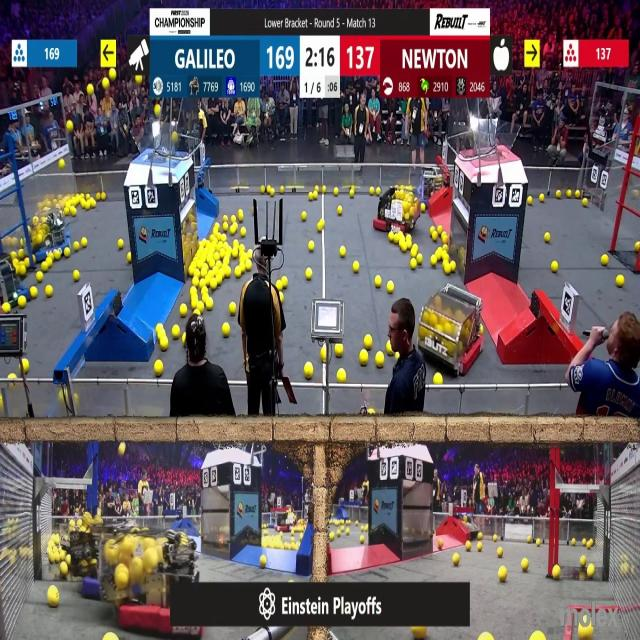ball_airborne: (172, 132, 179, 144), (67, 120, 74, 131), (108, 69, 115, 80), (118, 444, 124, 456), (88, 86, 95, 96), (136, 75, 143, 84), (154, 105, 160, 115), (103, 78, 109, 88), (60, 160, 66, 170)
ball_ground: (47, 587, 58, 608), (306, 362, 314, 378), (154, 360, 162, 375), (360, 350, 368, 365), (339, 368, 347, 382), (377, 352, 385, 366), (336, 344, 344, 358), (498, 567, 506, 581), (553, 566, 561, 580), (221, 323, 229, 336), (172, 325, 180, 338), (320, 348, 327, 362), (588, 564, 595, 578), (452, 554, 460, 566), (398, 240, 406, 252), (197, 302, 205, 314), (17, 266, 25, 278), (387, 281, 394, 294), (23, 359, 30, 372), (180, 305, 187, 318), (364, 337, 371, 350), (61, 563, 68, 576), (17, 296, 25, 307), (434, 374, 442, 385), (532, 632, 543, 640), (552, 262, 559, 274), (618, 275, 625, 287), (522, 558, 529, 570), (45, 285, 52, 297), (375, 276, 382, 288), (386, 343, 393, 355), (206, 300, 213, 312), (162, 339, 169, 351), (2, 304, 10, 314), (231, 223, 239, 233), (73, 271, 80, 282), (235, 268, 242, 279), (259, 556, 266, 567), (245, 262, 252, 273), (445, 265, 452, 276), (216, 276, 223, 287), (231, 304, 237, 316), (282, 278, 288, 290), (451, 262, 457, 274), (276, 281, 284, 290), (480, 634, 492, 640), (104, 634, 116, 640), (64, 248, 71, 258), (388, 233, 395, 243), (412, 246, 419, 256), (444, 256, 451, 266), (187, 267, 194, 277), (233, 248, 240, 258), (316, 220, 323, 230), (55, 250, 62, 260), (602, 254, 608, 265), (353, 263, 359, 274), (543, 233, 549, 244), (31, 287, 37, 298), (412, 260, 418, 271), (309, 241, 315, 252), (224, 268, 230, 279), (443, 234, 449, 245), (210, 280, 217, 289), (36, 273, 43, 282), (307, 270, 313, 280), (341, 247, 347, 257), (430, 256, 436, 266), (579, 556, 585, 566), (74, 242, 80, 252), (180, 334, 186, 344), (238, 211, 244, 221), (46, 256, 52, 266), (160, 327, 166, 337), (191, 302, 198, 310), (200, 270, 207, 278), (215, 262, 222, 270), (203, 292, 210, 300), (117, 240, 123, 249), (191, 278, 197, 287), (431, 233, 437, 242), (566, 189, 572, 198), (42, 264, 48, 273), (368, 186, 374, 195), (128, 252, 133, 262), (222, 222, 227, 232), (367, 410, 374, 417), (348, 190, 355, 197), (435, 250, 442, 257), (583, 200, 589, 208), (190, 286, 196, 294), (259, 185, 265, 193), (303, 212, 309, 220), (475, 542, 481, 550), (71, 208, 77, 216), (222, 256, 228, 264), (234, 240, 240, 248), (80, 201, 86, 209), (439, 539, 445, 547), (270, 188, 276, 196), (81, 239, 86, 248), (539, 192, 544, 201), (557, 189, 562, 198), (497, 549, 502, 558), (241, 229, 246, 238), (92, 200, 97, 209), (408, 235, 413, 244), (219, 251, 224, 260), (420, 205, 426, 212), (221, 235, 227, 242), (8, 374, 14, 381), (331, 188, 337, 195), (443, 244, 449, 251), (240, 245, 246, 252), (479, 533, 485, 540), (636, 242, 640, 252), (280, 292, 284, 302), (574, 190, 579, 198), (309, 191, 314, 199), (200, 279, 205, 287), (232, 214, 237, 222), (321, 185, 326, 193), (440, 224, 445, 232), (376, 187, 381, 195), (394, 352, 400, 358), (418, 255, 422, 264), (526, 536, 532, 542), (346, 528, 351, 535), (571, 538, 576, 545), (222, 215, 227, 222), (430, 225, 435, 232), (339, 207, 343, 215), (466, 541, 470, 549), (528, 198, 532, 206), (360, 535, 364, 543), (248, 250, 252, 258), (536, 538, 540, 546), (330, 532, 334, 540), (492, 535, 498, 540), (100, 194, 104, 201), (280, 186, 284, 193), (361, 526, 364, 532), (356, 522, 359, 526)
goal: (466, 122, 520, 160), (130, 127, 189, 161)
robot_blue: (68, 542, 109, 597), (32, 211, 71, 258)
robot_red: (112, 529, 200, 629), (414, 288, 482, 374), (375, 184, 420, 237), (418, 166, 452, 205), (275, 512, 296, 532)
